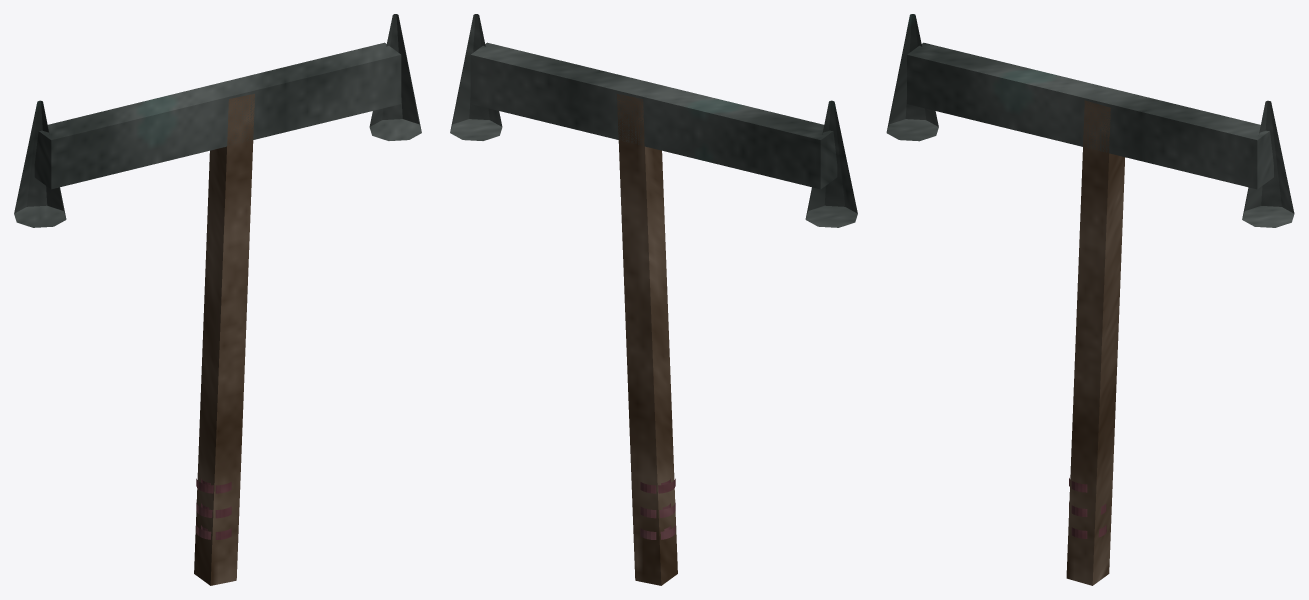
File: 0863_pickaxe_13.glb
3 renders of one model, left to right at view 1: azimuth 30°, elevation 25°; view 2: azimuth 150°, elevation 25°; view 3: azimuth 330°, elevation 25°, orthographic.
Parts seen in each view (by area): view 1: iron, wood, cloth; view 2: iron, wood, cloth; view 3: iron, wood, cloth.
Boxes of the visible parts, <box> form: iron: <box>14,14,421,227</box>; wood: <box>194,94,254,585</box>; cloth: <box>196,478,231,539</box>; iron: <box>450,14,857,227</box>; wood: <box>617,94,677,585</box>; cloth: <box>640,478,675,539</box>; iron: <box>886,14,1294,227</box>; wood: <box>1066,100,1125,585</box>; cloth: <box>1069,478,1106,538</box>.
Size of the model in its own units: 1.54 by 1.9 by 0.18.
Materials: 3 (3 with a texture image).
